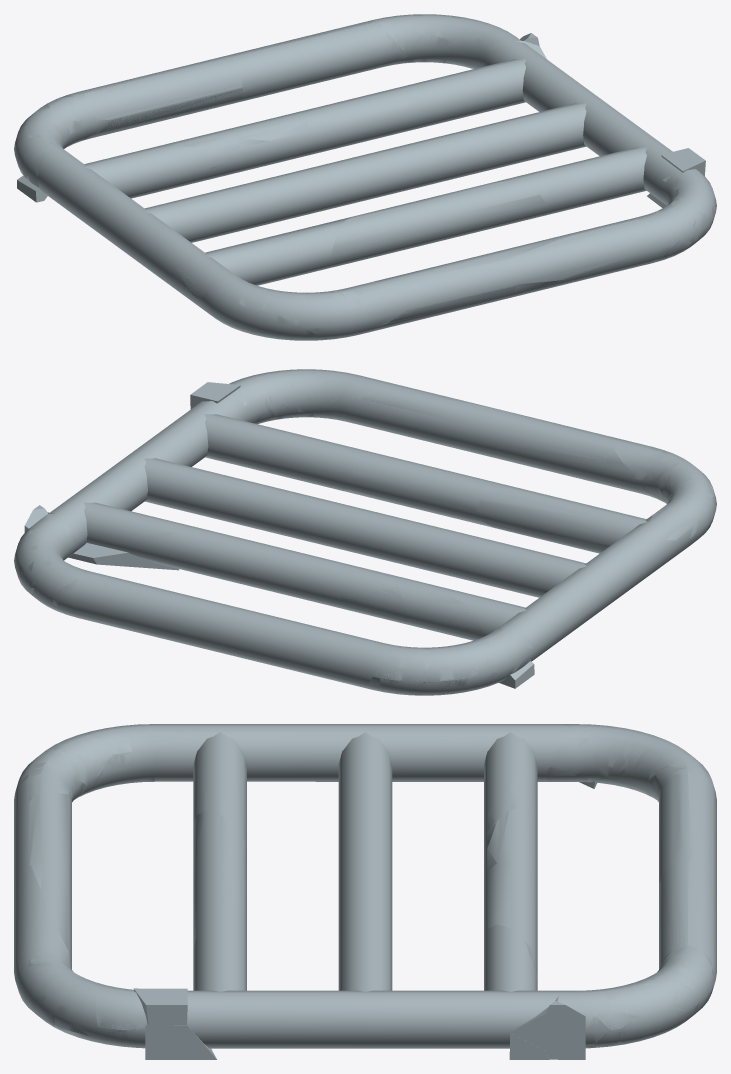
Rendered from grate cell fractire.fbx.
3 renders of one model, top to bottom at view 1: azimuth 30°, elevation 25°; view 2: azimuth 150°, elevation 25°; view 3: azimuth 270°, elevation 25°, orthographic. The views are drawn at different scales.
Visible parts, largest first — view 1: barrierFloor_Cube.506, barrierFloor_Cube.506_cell.013, barrierFloor_Cube.506_cell.074, barrierFloor_Cube.506_cell.048, barrierFloor_Cube.506_cell.102, barrierFloor_Cube.506_cell.067, barrierFloor_Cube.506_cell.064, barrierFloor_Cube.506_cell.107, barrierFloor_Cube.506_cell.037, barrierFloor_Cube.506_cell.059, barrierFloor_Cube.506_cell.104, barrierFloor_Cube.506_cell.035 (+6 smaller); view 2: barrierFloor_Cube.506, barrierFloor_Cube.506_cell.067, barrierFloor_Cube.506_cell.013, barrierFloor_Cube.506_cell.102, barrierFloor_Cube.506_cell.064, barrierFloor_Cube.506_cell.027, barrierFloor_Cube.506_cell.010, barrierFloor_Cube.506_cell.035, barrierFloor_Cube.506_cell.109, barrierFloor_Cube.506_cell.107, barrierFloor_Cube.506_cell.008, barrierFloor_Cube.506_cell.073 (+5 smaller); view 3: barrierFloor_Cube.506, barrierFloor_Cube.506_cell.013, barrierFloor_Cube.506_cell.064, barrierFloor_Cube.506_cell.007, barrierFloor_Cube.506_cell.074, barrierFloor_Cube.506_cell.082, barrierFloor_Cube.506_cell.102, barrierFloor_Cube.506_cell.065, barrierFloor_Cube.506_cell.027, barrierFloor_Cube.506_cell.010, barrierFloor_Cube.506_cell.104, barrierFloor_Cube.506_cell.030 (+18 smaller).
Part boxes in pixels (bbox=[...]): barrierFloor_Cube.506: bbox=[14, 14, 716, 340]; barrierFloor_Cube.506_cell.013: bbox=[92, 59, 525, 198]; barrierFloor_Cube.506_cell.074: bbox=[84, 57, 242, 119]; barrierFloor_Cube.506_cell.048: bbox=[234, 23, 405, 102]; barrierFloor_Cube.506_cell.102: bbox=[204, 218, 347, 285]; barrierFloor_Cube.506_cell.067: bbox=[93, 59, 525, 195]; barrierFloor_Cube.506_cell.064: bbox=[363, 252, 515, 333]; barrierFloor_Cube.506_cell.107: bbox=[331, 201, 438, 266]; barrierFloor_Cube.506_cell.037: bbox=[82, 88, 242, 140]; barrierFloor_Cube.506_cell.059: bbox=[509, 220, 681, 284]; barrierFloor_Cube.506_cell.104: bbox=[304, 94, 410, 155]; barrierFloor_Cube.506_cell.035: bbox=[421, 181, 545, 229]; barrierFloor_Cube.506: bbox=[14, 369, 716, 695]; barrierFloor_Cube.506_cell.067: bbox=[84, 509, 525, 640]; barrierFloor_Cube.506_cell.013: bbox=[86, 502, 525, 640]; barrierFloor_Cube.506_cell.102: bbox=[477, 488, 646, 552]; barrierFloor_Cube.506_cell.064: bbox=[484, 410, 647, 494]; barrierFloor_Cube.506_cell.027: bbox=[53, 574, 227, 653]; barrierFloor_Cube.506_cell.010: bbox=[312, 391, 499, 452]; barrierFloor_Cube.506_cell.035: bbox=[344, 445, 424, 509]; barrierFloor_Cube.506_cell.109: bbox=[393, 576, 483, 637]; barrierFloor_Cube.506_cell.107: bbox=[414, 468, 504, 527]; barrierFloor_Cube.506_cell.008: bbox=[68, 542, 179, 570]; barrierFloor_Cube.506_cell.073: bbox=[614, 441, 679, 479]; barrierFloor_Cube.506: bbox=[14, 724, 716, 1048]; barrierFloor_Cube.506_cell.013: bbox=[487, 733, 535, 991]; barrierFloor_Cube.506_cell.064: bbox=[18, 791, 72, 874]; barrierFloor_Cube.506_cell.007: bbox=[545, 1000, 585, 1059]; barrierFloor_Cube.506_cell.074: bbox=[659, 774, 688, 883]; barrierFloor_Cube.506_cell.082: bbox=[145, 1024, 216, 1059]; barrierFloor_Cube.506_cell.102: bbox=[193, 732, 246, 848]; barrierFloor_Cube.506_cell.065: bbox=[133, 988, 187, 1024]; barrierFloor_Cube.506_cell.027: bbox=[688, 861, 716, 990]; barrierFloor_Cube.506_cell.010: bbox=[31, 862, 71, 969]; barrierFloor_Cube.506_cell.104: bbox=[487, 860, 536, 928]; barrierFloor_Cube.506_cell.030: bbox=[687, 771, 716, 875].
Bounding box in the file's own units: 2616 × 229 × 2659.
